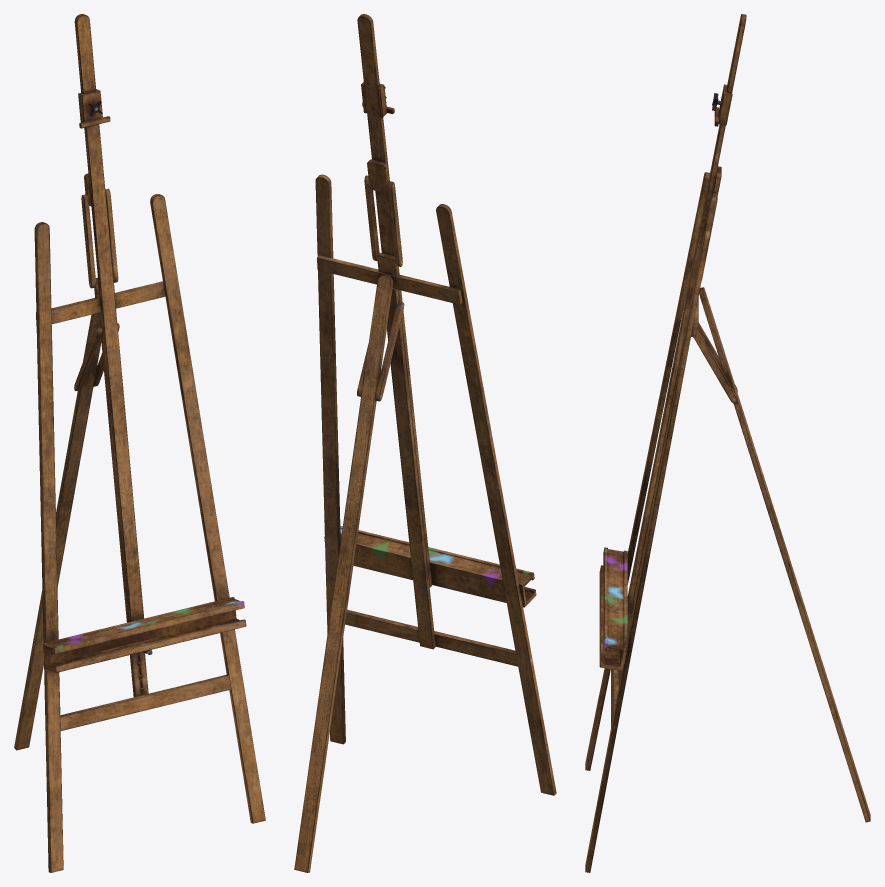
File: obj_easel_7ce5df.glb
The picture shows the model from 3 angles, left to right: view 1: azimuth 30°, elevation 25°; view 2: azimuth 150°, elevation 25°; view 3: azimuth 270°, elevation 25°; orthographic projection. The views are drawn at different scales.
Parts seen in each view (by area): view 1: obj_easel_7ce5df; view 2: obj_easel_7ce5df; view 3: obj_easel_7ce5df.
Part boxes in pixels (<box>): obj_easel_7ce5df: <box>14,14,265,872</box>; obj_easel_7ce5df: <box>294,14,556,872</box>; obj_easel_7ce5df: <box>585,14,870,872</box>.
Size of the model in its own units: 0.4343 by 1.5 by 0.4825.
1 material, 1 textured.
